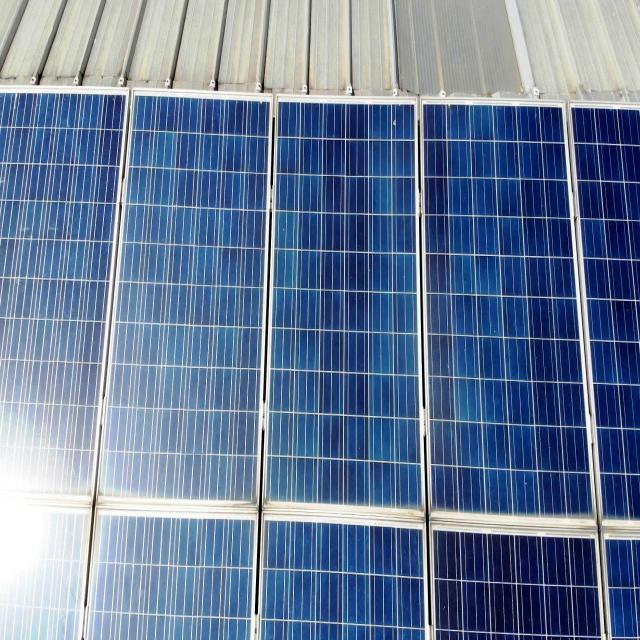no faulty: (91, 92, 276, 514), (421, 99, 597, 522), (265, 100, 422, 520), (0, 87, 131, 501)
